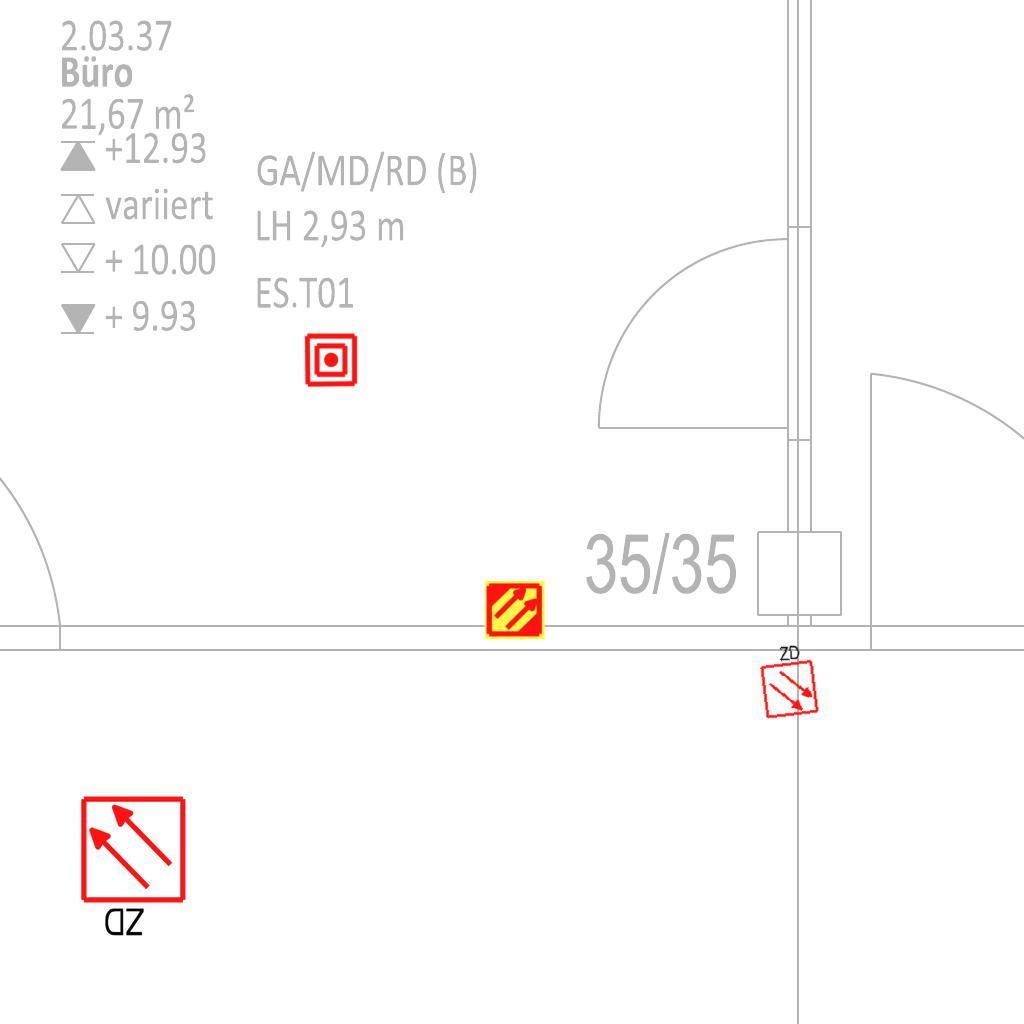ASR_Ansaugrauchmelder: (484, 579, 546, 641)
NAM-Nichtautomatischer_Melder: (303, 332, 359, 388)
ZD_Melder_in_Zwischendecke_mit_Revisionsoeffnung_mind_40_x_40_cm: (78, 794, 192, 943), (754, 639, 821, 721)
